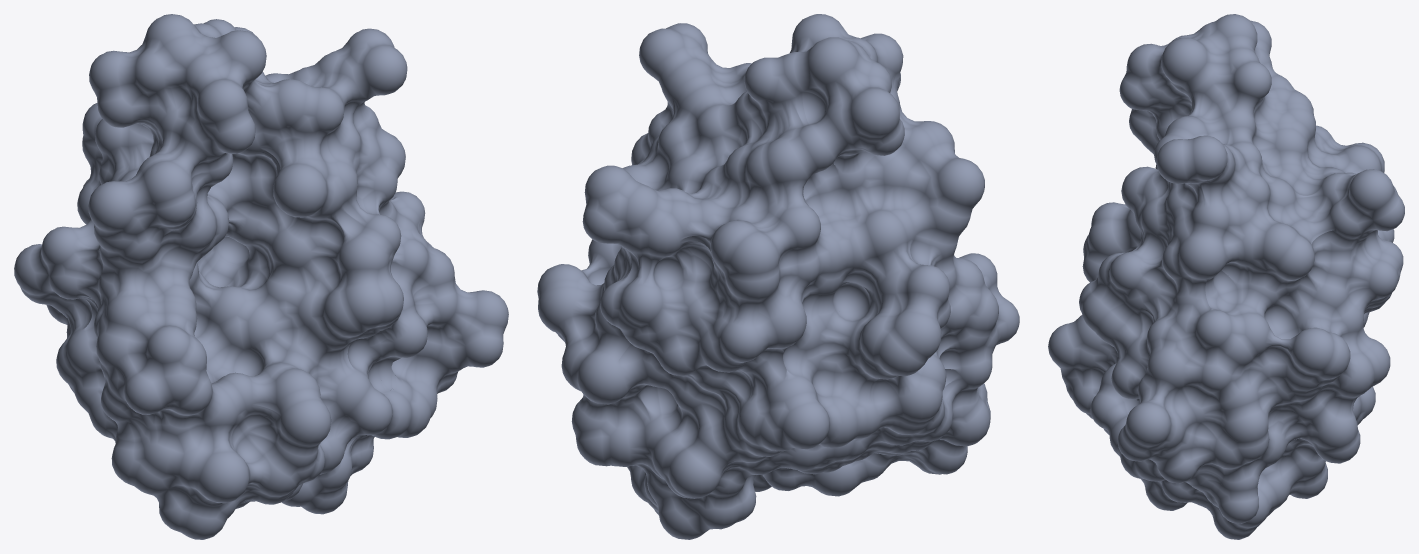
Rendered from 7bmg-redo-2.glb.
The picture shows the model from 3 angles, left to right: view 1: azimuth 30°, elevation 25°; view 2: azimuth 150°, elevation 25°; view 3: azimuth 270°, elevation 25°; orthographic projection. The views are drawn at different scales.
Visible parts, largest first — view 1: Test Export; view 2: Test Export; view 3: Test Export.
Part boxes in pixels (x1,y1,x2,y2): Test Export: (14, 14, 508, 539); Test Export: (537, 14, 1019, 539); Test Export: (1048, 14, 1404, 539).
Size of the model in its own units: 36.45 by 42.84 by 30.44.
